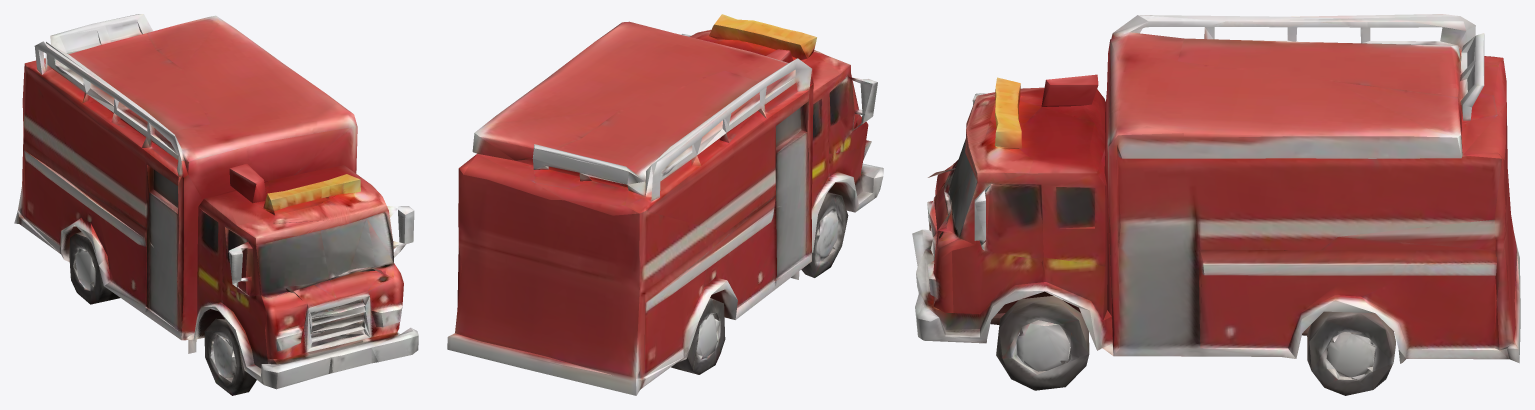
Rendered from fireTruck.glb.
3 views of the same model, side by side, from view 1: azimuth 30°, elevation 25°; view 2: azimuth 150°, elevation 25°; view 3: azimuth 270°, elevation 25° (orthographic). The views are drawn at different scales.
Visible parts, largest first — view 1: model; view 2: model; view 3: model.
Boxes of the visible parts, bbox=[...] form: model: bbox=[14, 14, 418, 395]; model: bbox=[447, 14, 883, 395]; model: bbox=[912, 14, 1520, 395].
Bounding box in the file's own units: 0.8161 × 0.9812 × 1.9.
1 material, 1 textured.
